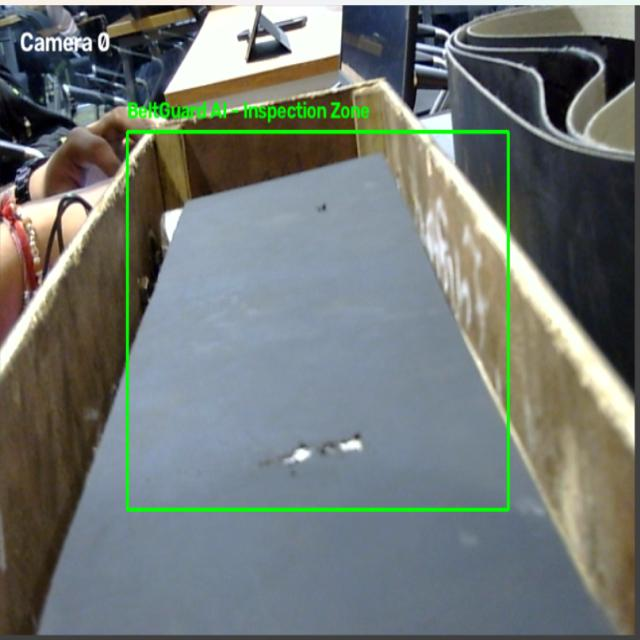eroded: (258, 431, 364, 476)
scratch: (302, 196, 339, 227)
